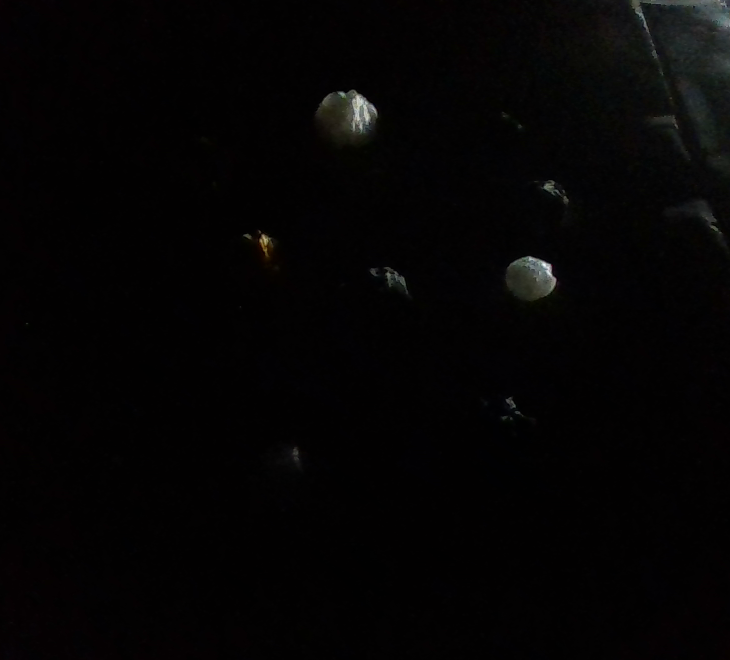anorthosite: (245, 439, 319, 512), (314, 88, 378, 149), (504, 256, 556, 301)
basalt: (448, 392, 536, 472), (474, 110, 525, 150), (129, 332, 170, 376)
metal: (166, 133, 234, 199), (220, 228, 284, 287), (364, 166, 403, 197)
regolith: (333, 266, 420, 346), (508, 179, 569, 236), (87, 452, 135, 496)
